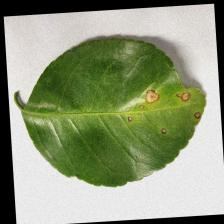canker: (128, 77, 203, 138)
